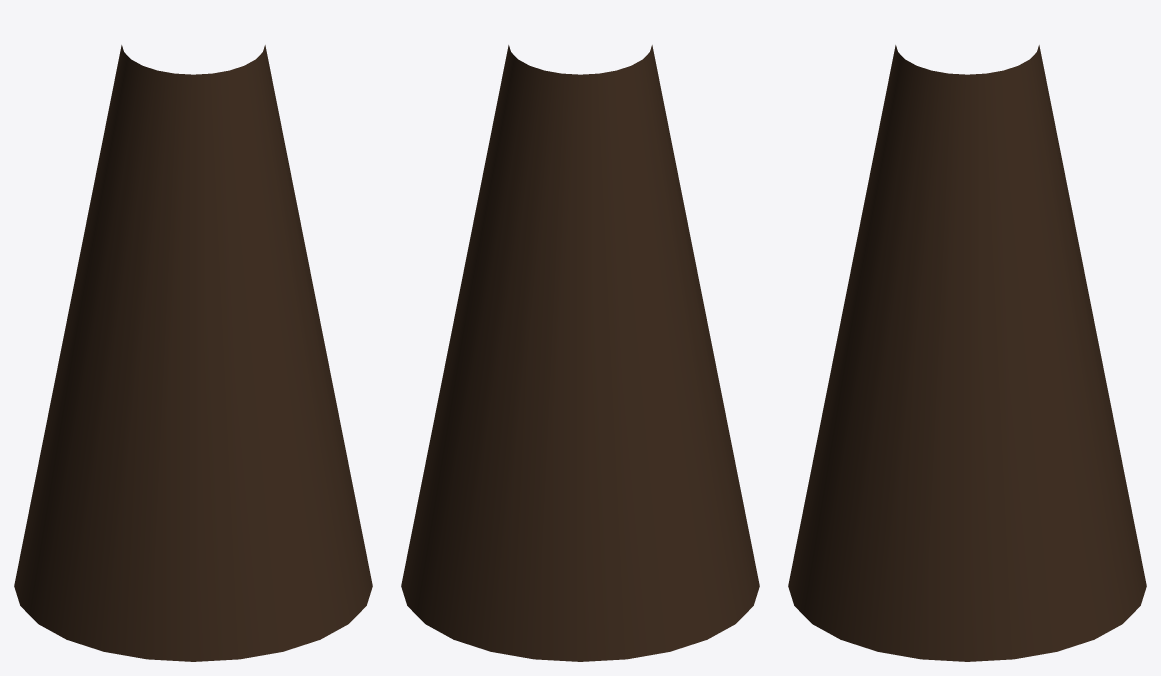
The model's file is column.glb.
The picture shows the model from 3 angles, left to right: view 1: azimuth 30°, elevation 25°; view 2: azimuth 150°, elevation 25°; view 3: azimuth 270°, elevation 25°; orthographic projection.
Visible parts, largest first — view 1: ColumnMesh; view 2: ColumnMesh; view 3: ColumnMesh.
Part boxes in pixels (box(x1,y1,x2,y2)): ColumnMesh: box(14, 45, 372, 661); ColumnMesh: box(401, 45, 759, 661); ColumnMesh: box(788, 45, 1146, 661).
Bounding box in the file's own units: 0.6 × 1 × 0.6.
